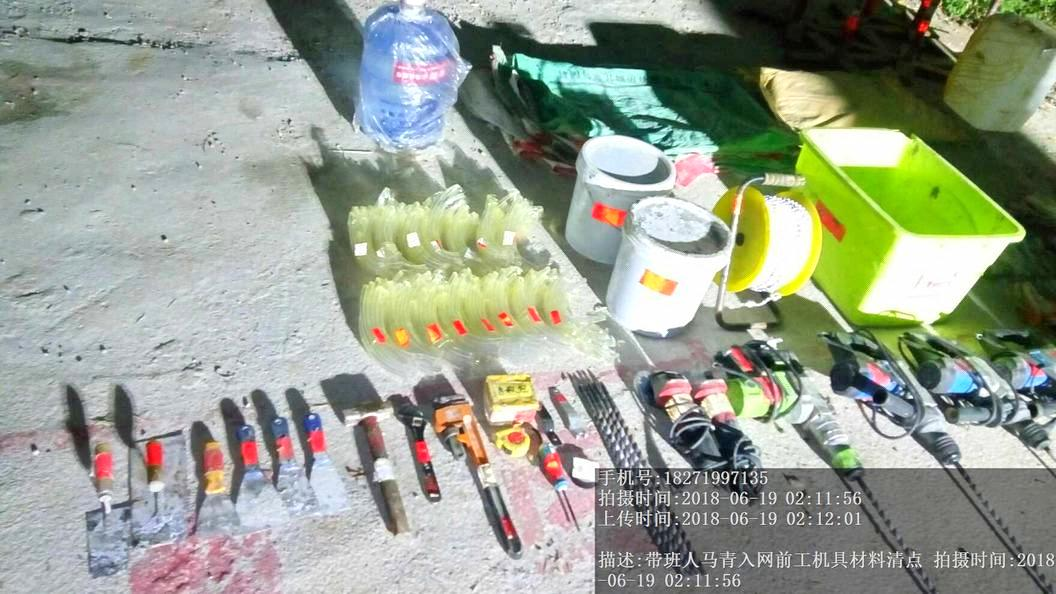DZ: (827, 350, 965, 472), (720, 364, 855, 472), (932, 353, 1055, 453)
T: (783, 118, 1001, 335)
